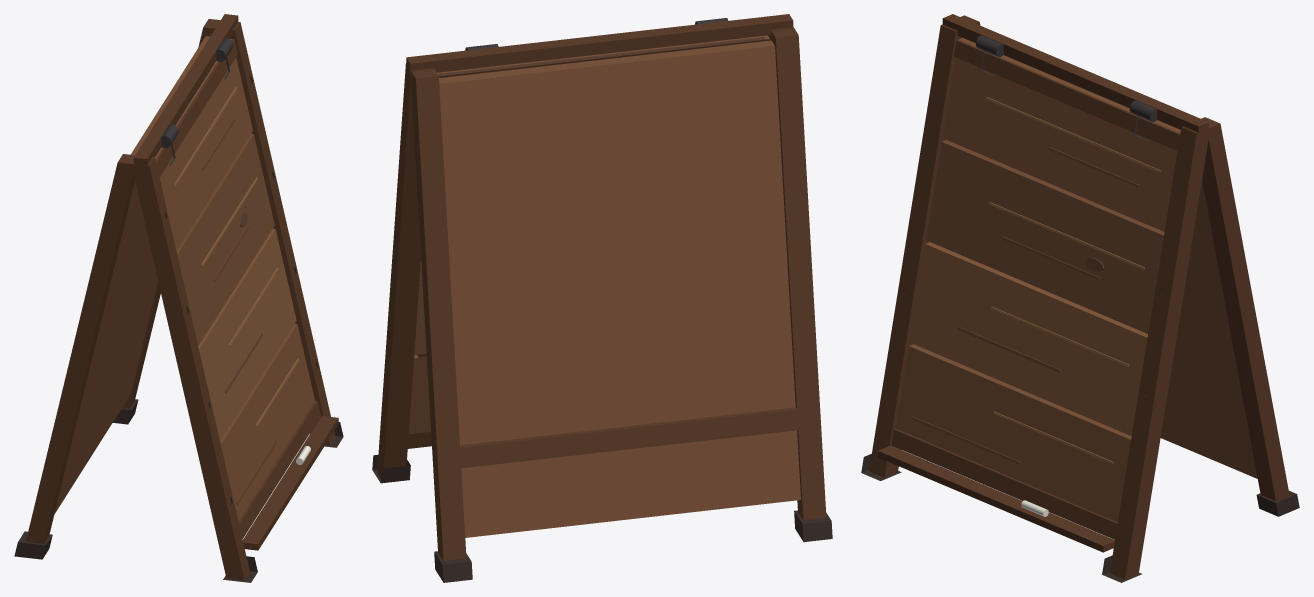
Rendered from name-sign.glb.
3 renders of one model, left to right at view 1: azimuth 30°, elevation 25°; view 2: azimuth 150°, elevation 25°; view 3: azimuth 270°, elevation 25°, orthographic. The views are drawn at different scales.
Parts seen in each view (by area): view 1: name-sign; view 2: name-sign; view 3: name-sign.
Part boxes in pixels (x1,y1,x2,y2): name-sign: (14,14,343,582); name-sign: (372,14,832,582); name-sign: (861,14,1299,582).
Bounding box in the file's own units: 1.82 × 1.93 × 1.82.
